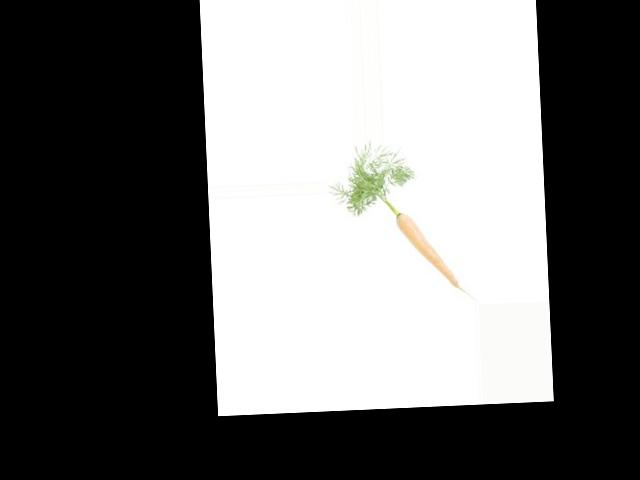carrot: (394, 207, 464, 295)
